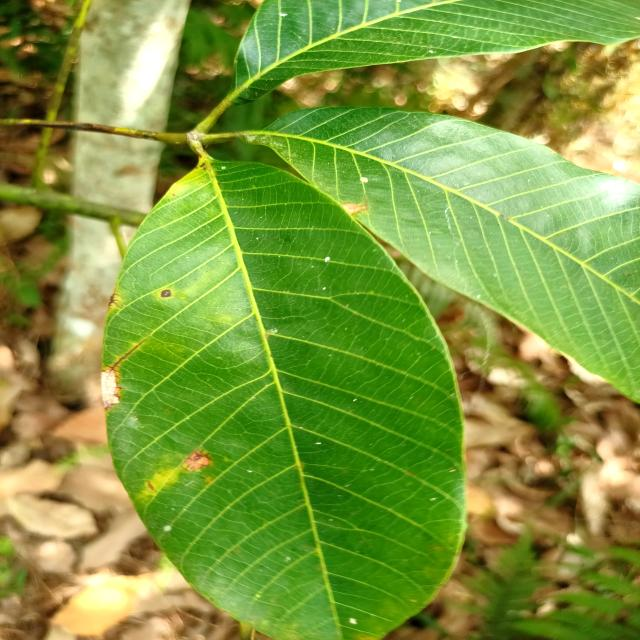Colletotrichum: (160, 290, 172, 298)
Corynespora: (106, 339, 148, 373), (108, 287, 120, 311)
Leaf-Blight: (101, 371, 119, 408), (341, 202, 366, 215)
